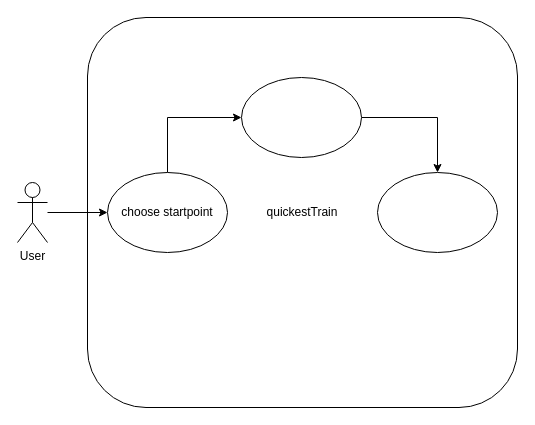
The diagram is 535 pixels wide and 425 high, and some of its shapes have lost their labels. Each missing label, with the centre of its shape:
calculate shortest roundtrip: the point at 301,117
show shortest connections in console: the point at 437,212
